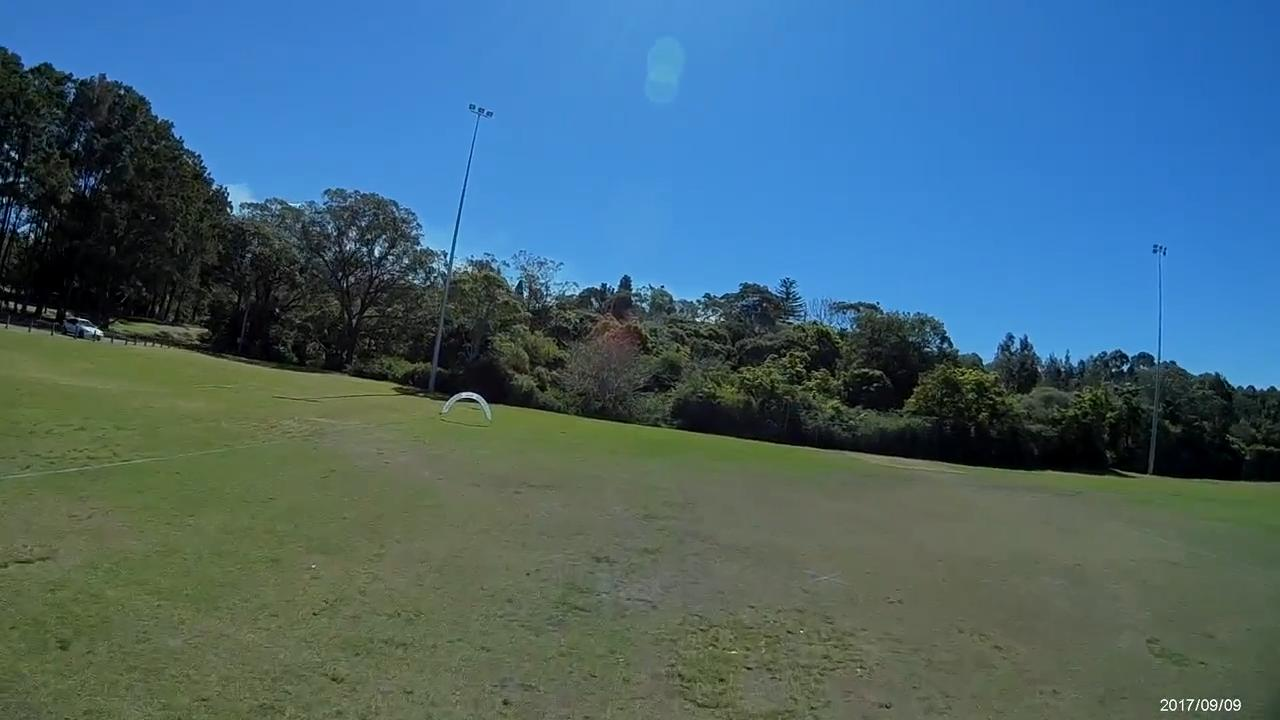gate: (441, 391, 490, 422)
